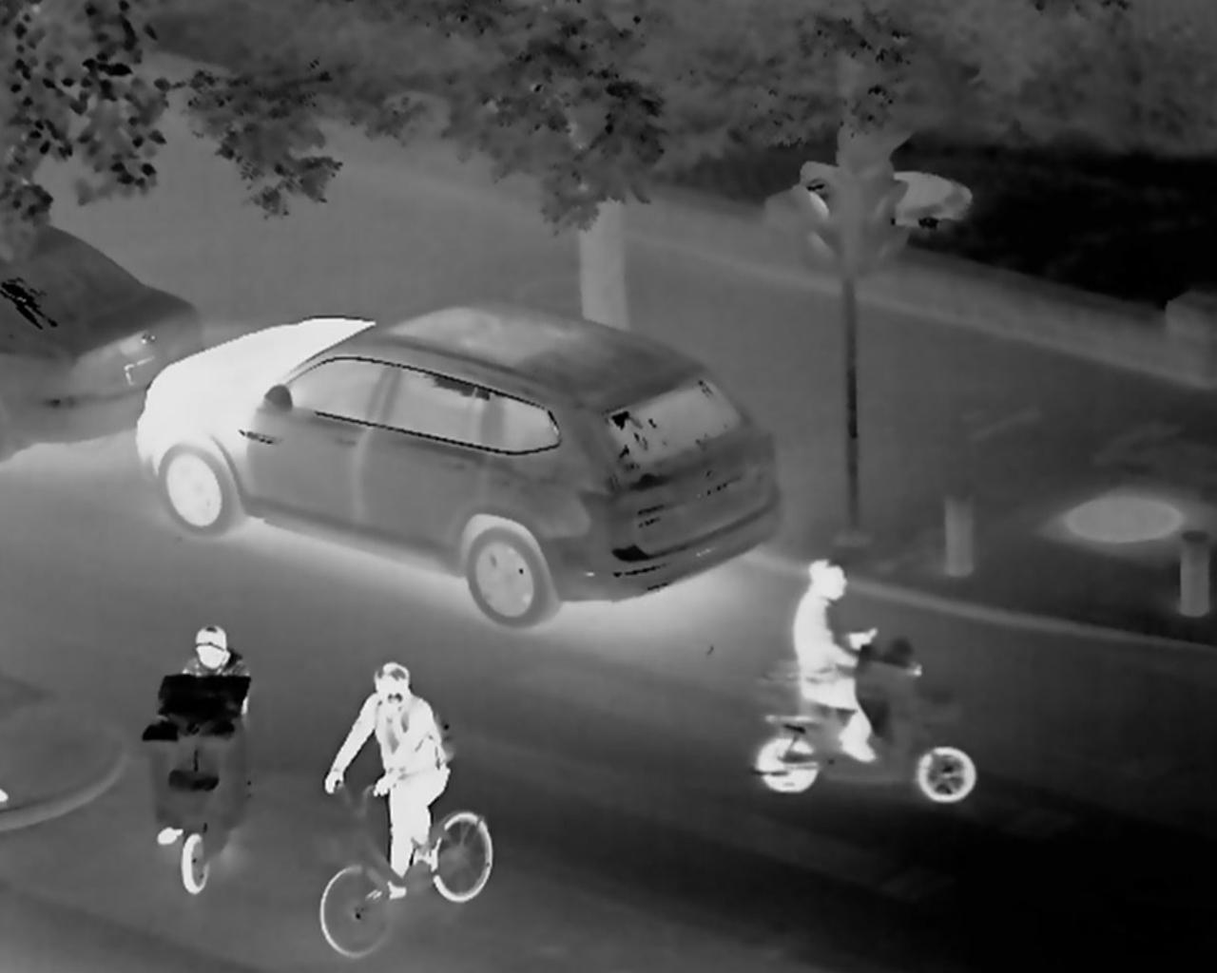person: (330, 654, 468, 877), (798, 551, 885, 765), (182, 620, 240, 677)
